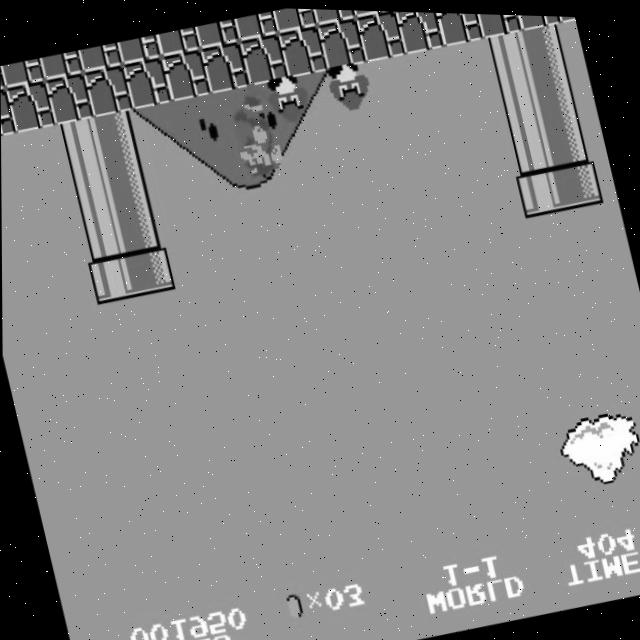0- big_mario: (221, 77, 285, 180)
14- pipe: (65, 160, 115, 215), (54, 115, 104, 170), (104, 152, 154, 207), (93, 107, 143, 162), (493, 71, 543, 126), (483, 26, 533, 81), (532, 63, 582, 118), (522, 18, 572, 73), (75, 206, 125, 260), (114, 198, 164, 252), (504, 117, 554, 171), (543, 109, 593, 163)
15- pipe_head: (86, 249, 136, 305), (125, 241, 175, 297), (514, 160, 564, 216), (553, 152, 603, 208)
17- undestructible_block: (82, 62, 133, 118), (43, 71, 94, 126), (121, 54, 172, 109), (160, 46, 211, 101), (199, 38, 250, 93), (5, 79, 55, 134), (238, 30, 288, 85), (277, 22, 327, 77), (316, 14, 366, 69), (355, 8, 405, 60), (394, 9, 444, 52), (433, 10, 483, 44), (0, 56, 45, 89), (38, 48, 83, 81), (77, 40, 122, 73), (116, 32, 161, 65), (155, 24, 200, 57), (194, 16, 239, 49), (233, 8, 278, 41), (472, 11, 522, 36), (272, 6, 317, 32), (1, 87, 16, 141), (511, 12, 561, 28), (311, 7, 356, 24), (350, 8, 395, 16)
8- goomba: (260, 69, 314, 127), (321, 56, 374, 115)
